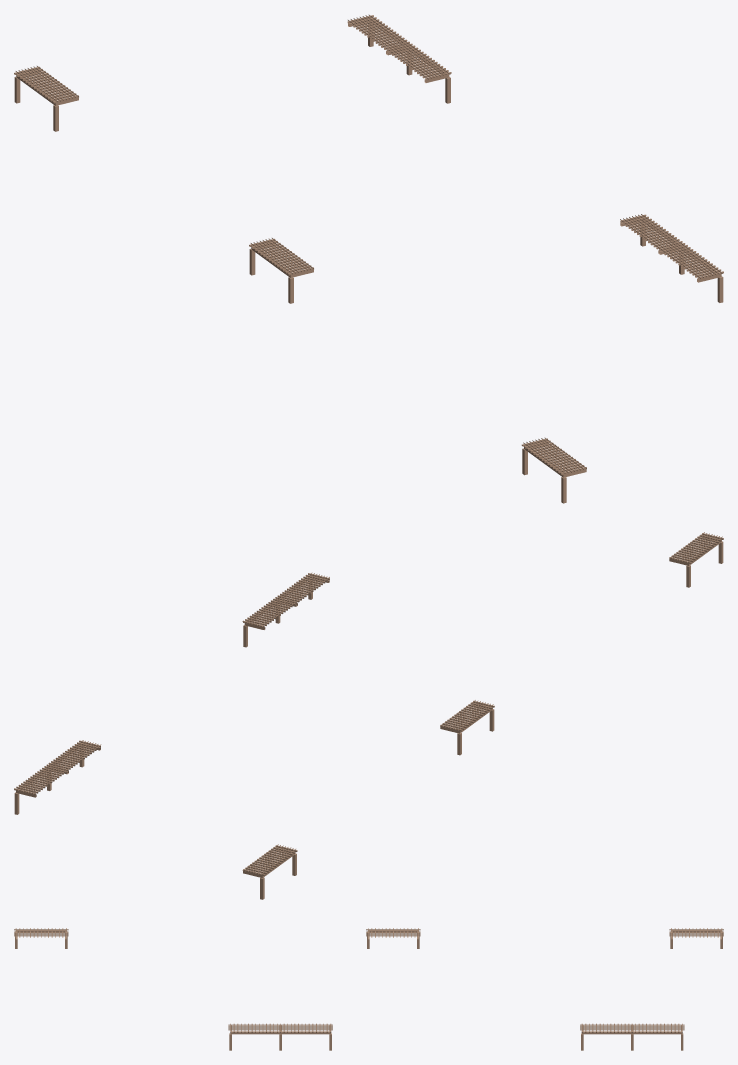
File: wood_4.fbx
3 views of the same model, one above another, from view 1: azimuth 30°, elevation 25°; view 2: azimuth 150°, elevation 25°; view 3: azimuth 270°, elevation 25° (orthographic). The views are drawn at different scales.
Visible parts, largest first — view 1: wood_4; view 2: wood_4; view 3: wood_4.
Part boxes in pixels (left/top/right/bottom): wood_4: left=14, top=14, right=723, bottom=503; wood_4: left=14, top=532, right=723, bottom=899; wood_4: left=14, top=928, right=723, bottom=1050.
Size of the model in its own units: 2330 by 205 by 6756.
